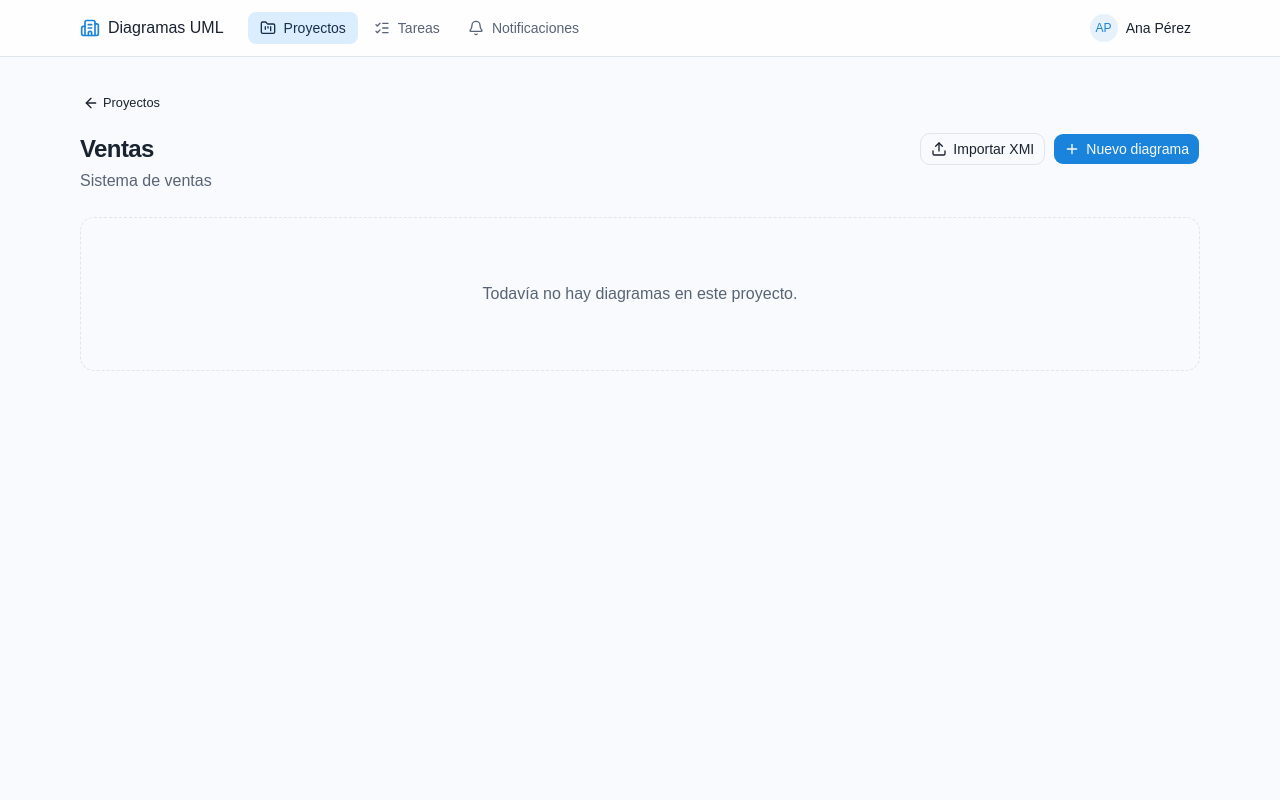
it: CU-06 Crear diagrama de clases › muestra DUPLICATE_DIAGRAM sin cerrar el formulario
Click the button "Nuevo diagrama". click: [1127, 149]
box: [1053,133,1200,165]
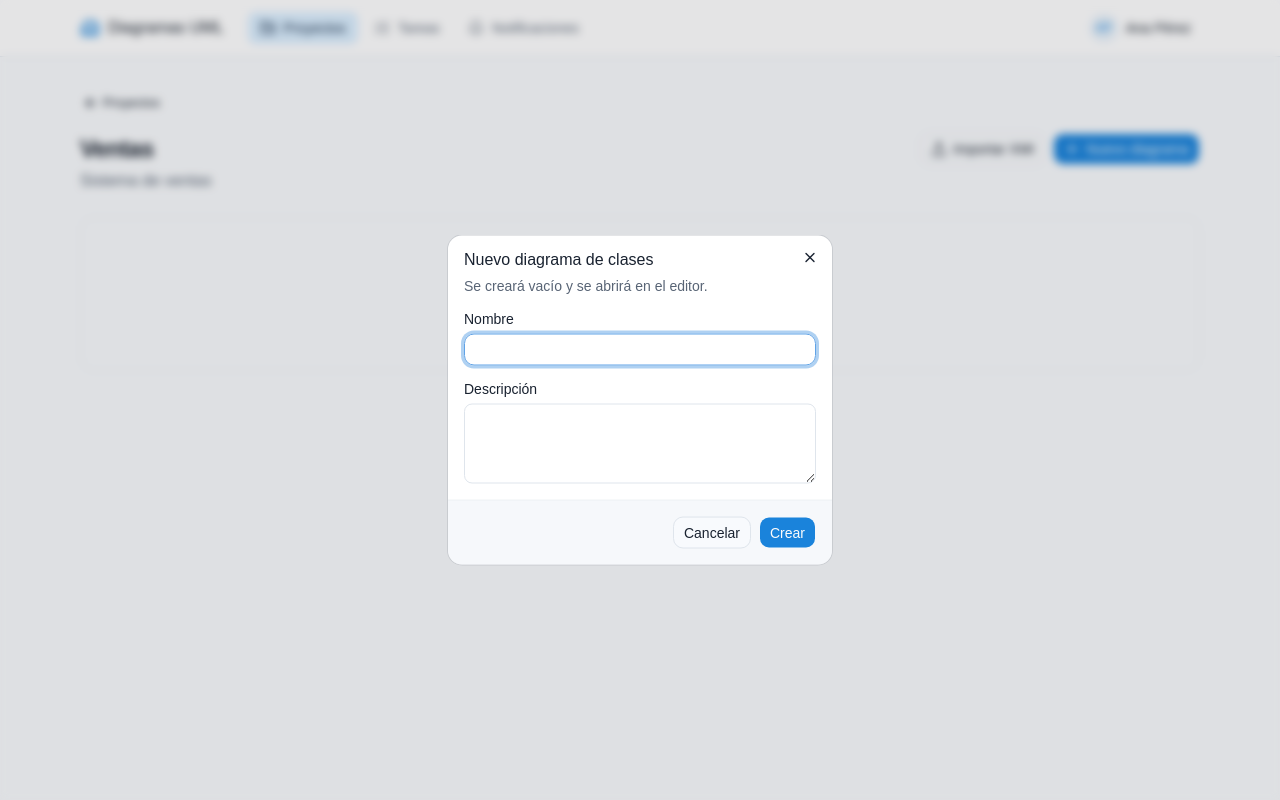
Type "Dominio" into the field labelled "Nombre". click: [640, 350]
box: [464,334,816,366]
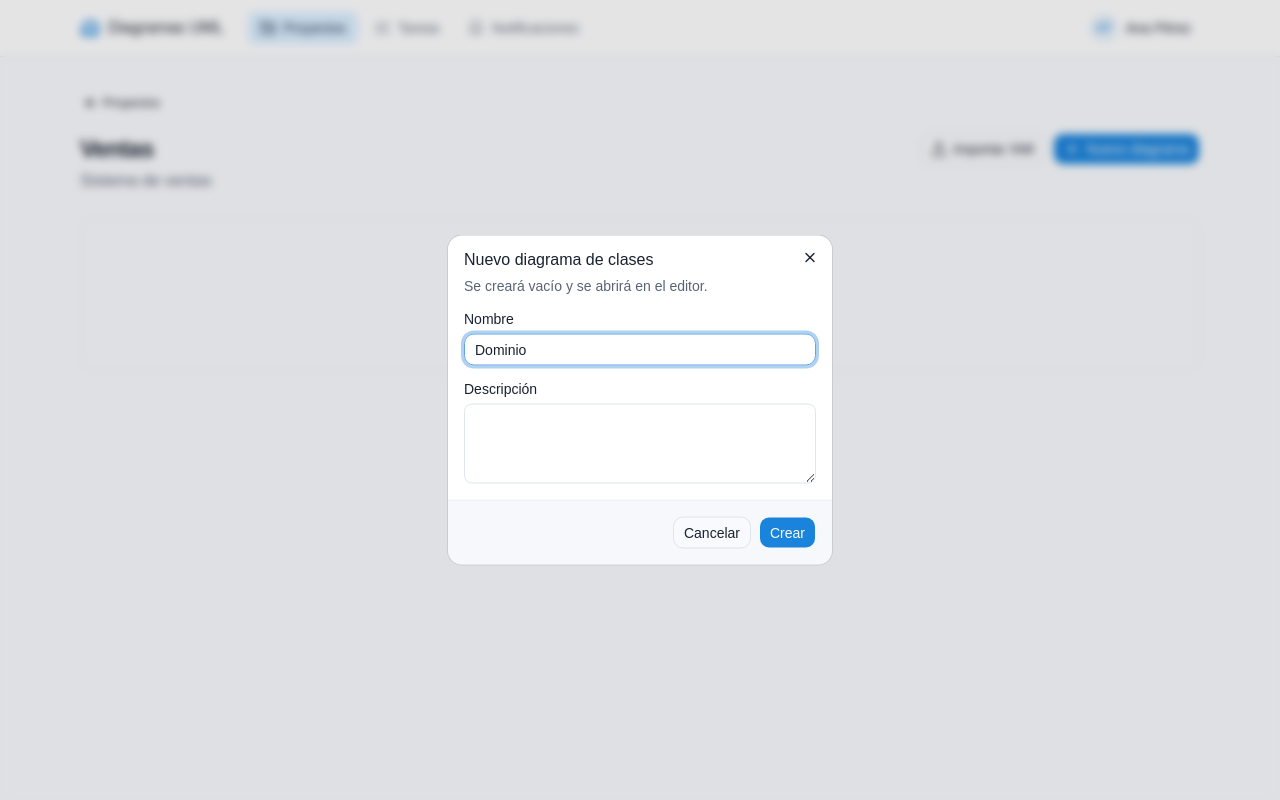
Click the button "Crear". click: [788, 532]
box: [759,516,816,548]
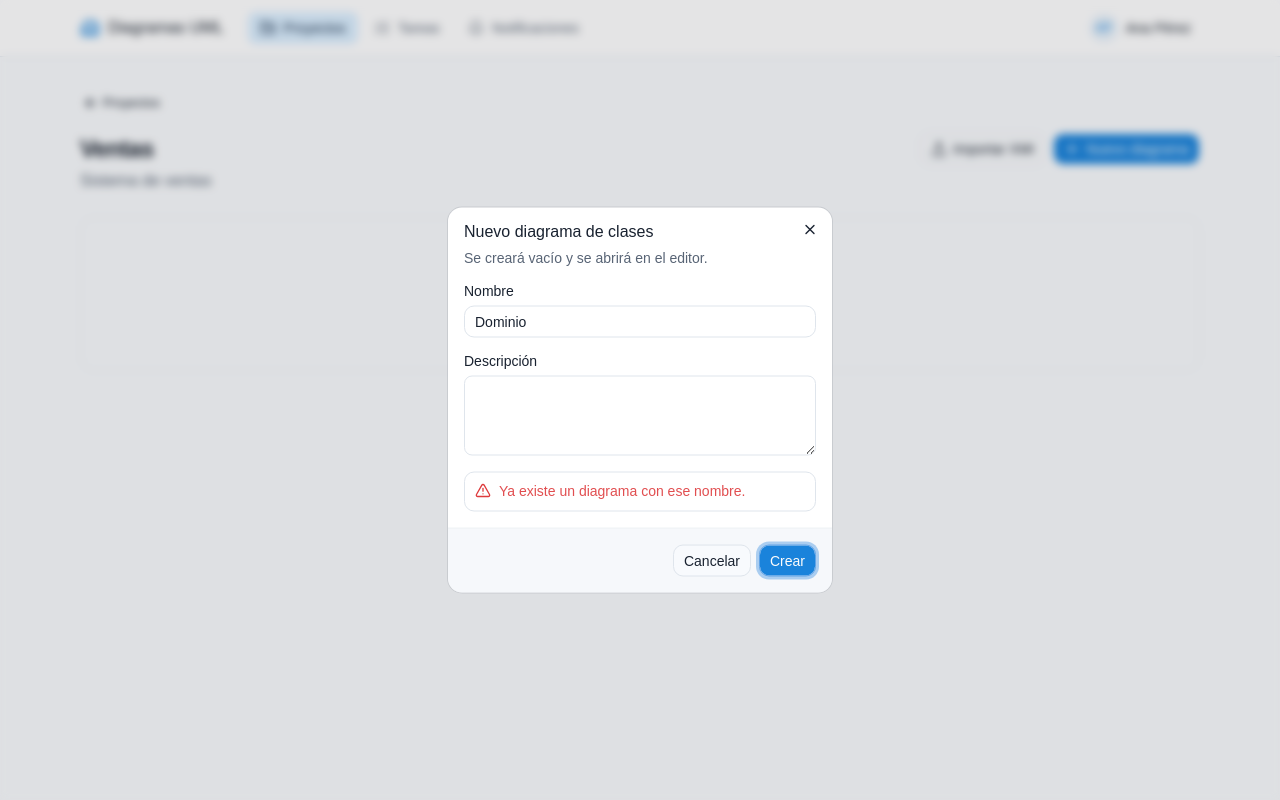
Expected: the dialog is shown, [448,208,832,592]
Expected: the message reads "Ya existe un diagrama con ese nombre.", [499,482,745,498]
